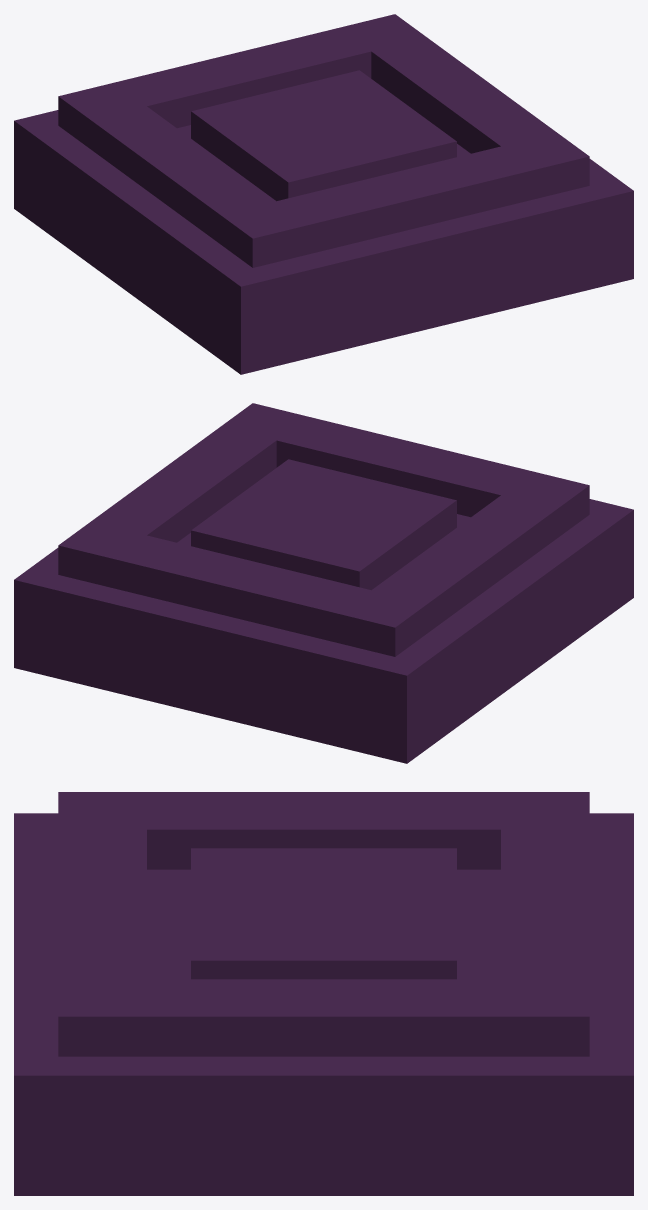
The model's file is man-v3-purple.gltf.
3 views of the same model, one above another, from view 1: azimuth 30°, elevation 25°; view 2: azimuth 150°, elevation 25°; view 3: azimuth 270°, elevation 25° (orthographic). The views are drawn at different scales.
Visible parts, largest first — view 1: Untitled; view 2: Untitled; view 3: Untitled.
Part boxes in pixels (bbox=[...]): Untitled: bbox=[14, 14, 633, 374]; Untitled: bbox=[14, 403, 633, 763]; Untitled: bbox=[14, 792, 633, 1195].
Size of the model in its own units: 1.4 by 0.4 by 1.4.
Materials: 1 (1 with a texture image).
